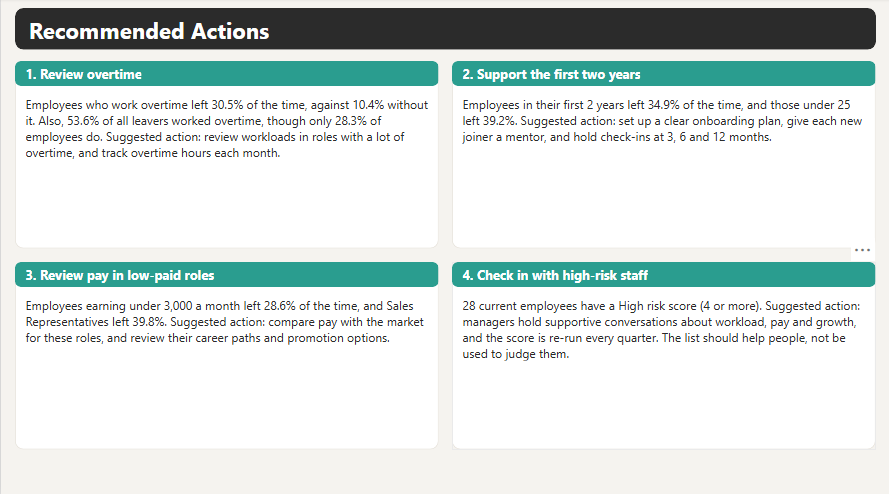

The dashboard page shown, as its layout file describes it:
{"tool":"powerbi","page":{"name":"Recommended Actions","canvas":[1280,720],"ordinal":4},"visuals":[{"type":"shape","box":[20,15,1240,60],"z":0},{"type":"shape","box":[20,90,610,270],"z":1000},{"type":"shape","box":[20,90,610,36],"z":2000},{"type":"shape","box":[650,90,610,270],"z":3000},{"type":"shape","box":[650,90,610,36],"z":4000},{"type":"shape","box":[20,380,610,270],"z":5000},{"type":"shape","box":[20,380,610,36],"z":6000},{"type":"shape","box":[650,380.7,610,270],"z":7000},{"type":"shape","box":[650,380.2,610,36],"z":8000}]}

Visuals, with their boxes in screenshot pixels (x1, y1, x2, y2), scaled from the page's 1280x720 canvas onto the 889x494 screenshot:
shape: <bbox>14, 10, 875, 51</bbox>
shape: <bbox>14, 62, 438, 247</bbox>
shape: <bbox>14, 62, 438, 86</bbox>
shape: <bbox>451, 62, 875, 247</bbox>
shape: <bbox>451, 62, 875, 86</bbox>
shape: <bbox>14, 261, 438, 446</bbox>
shape: <bbox>14, 261, 438, 285</bbox>
shape: <bbox>451, 261, 875, 446</bbox>
shape: <bbox>451, 261, 875, 286</bbox>
